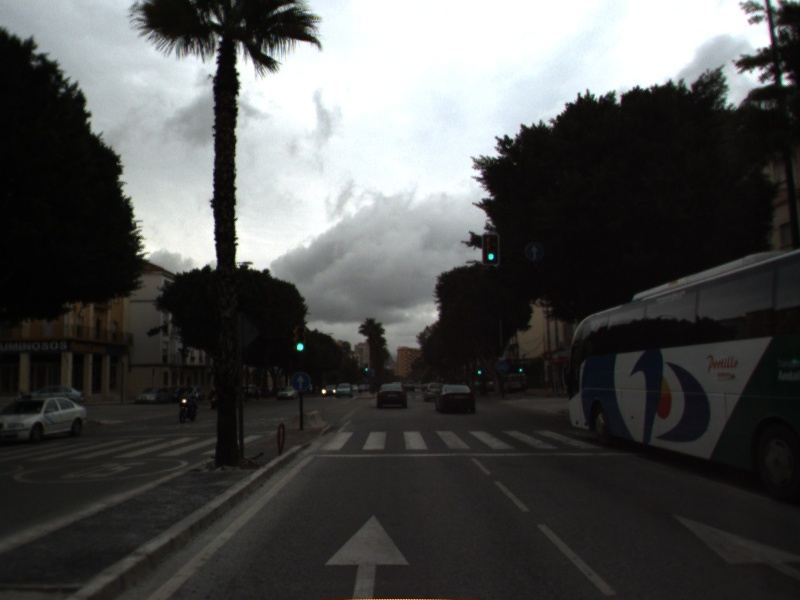STRAIGHT: (666, 509, 800, 580), (320, 510, 413, 600)
